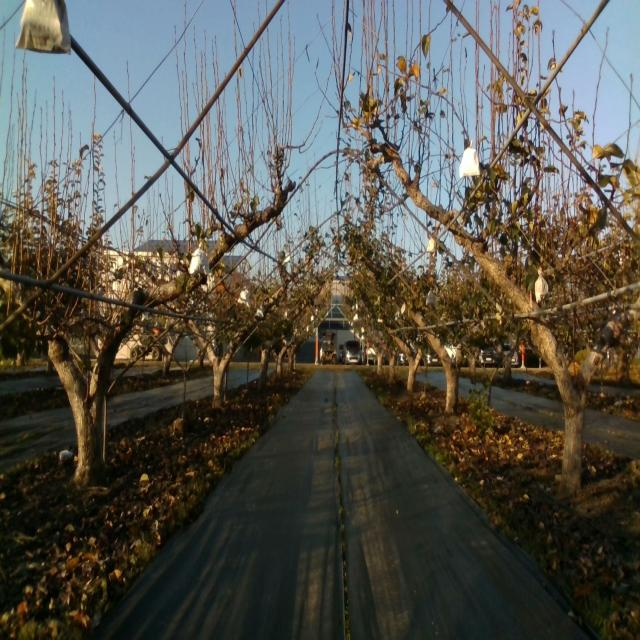pearbags: (13, 0, 72, 59), (458, 141, 482, 177), (190, 243, 211, 275), (534, 268, 549, 303), (238, 286, 250, 308)
